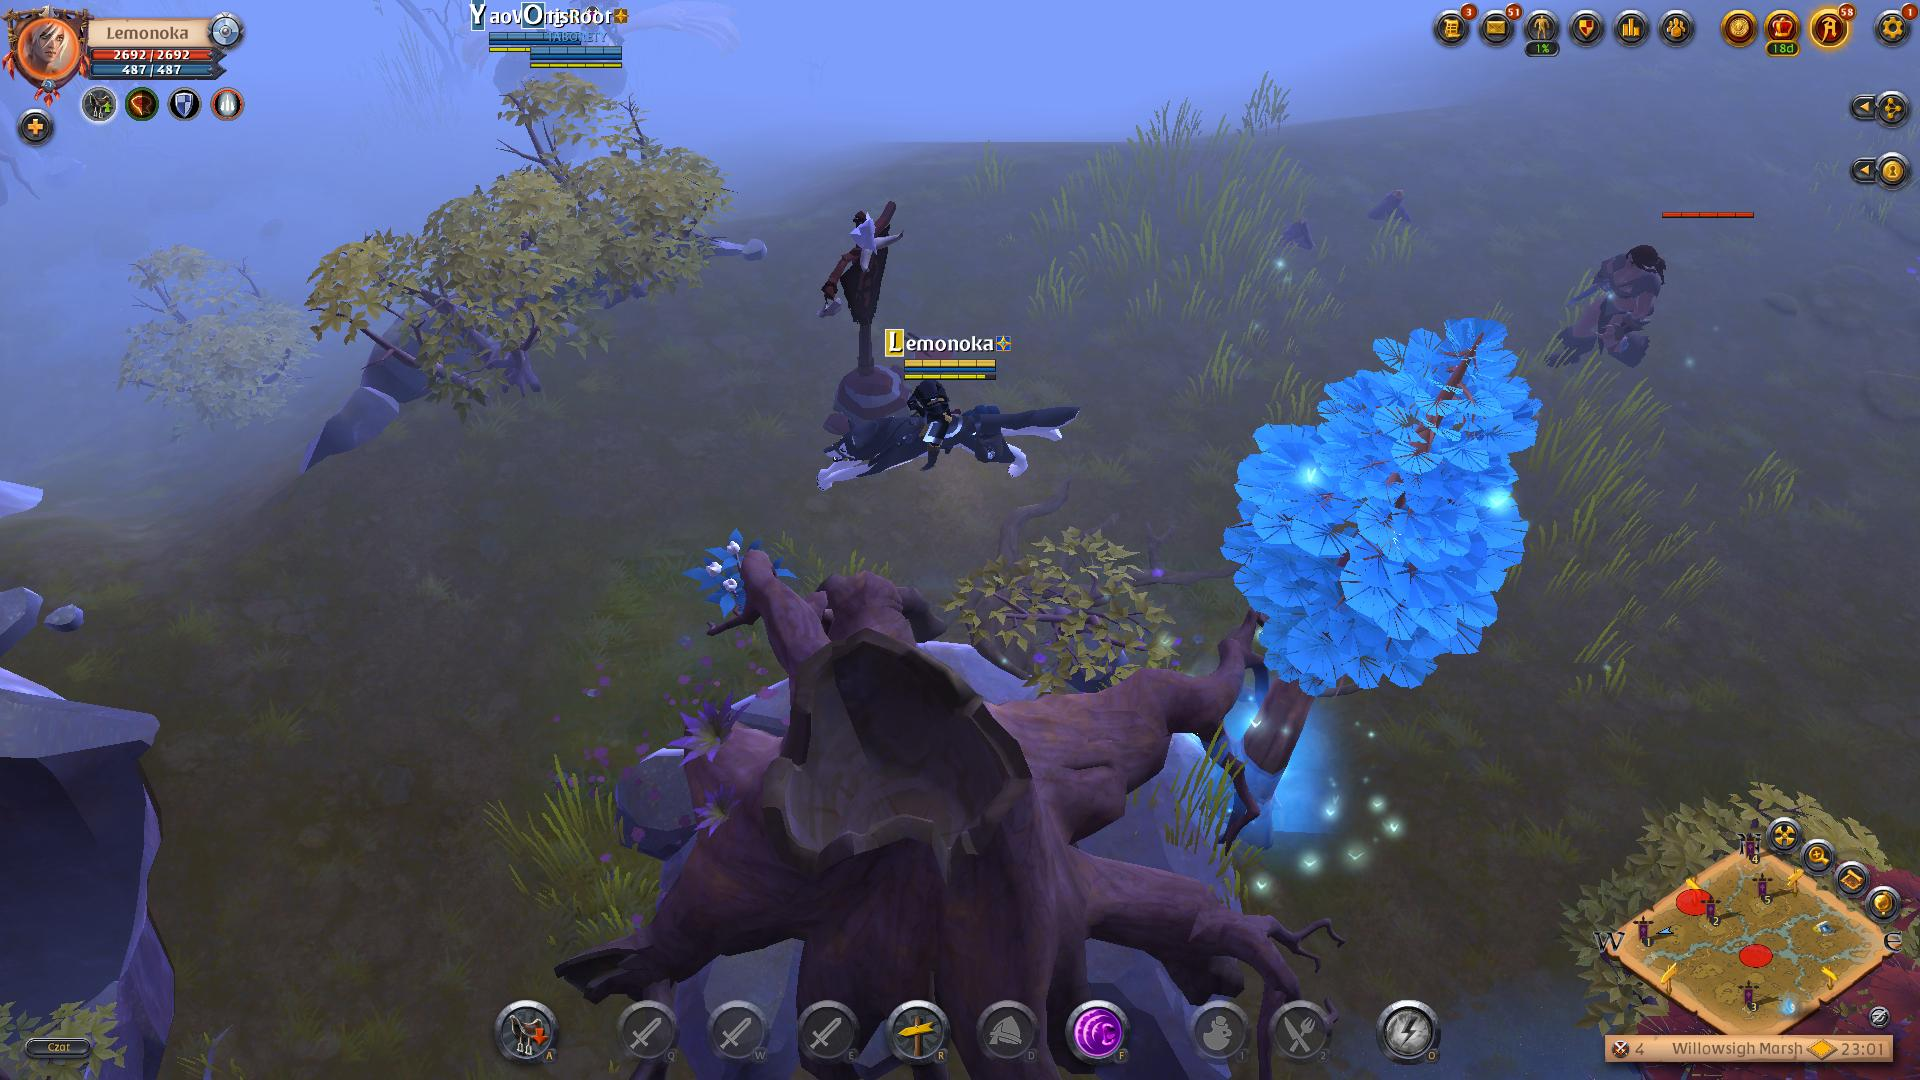wood tier 4: (1224, 309, 1547, 695)
